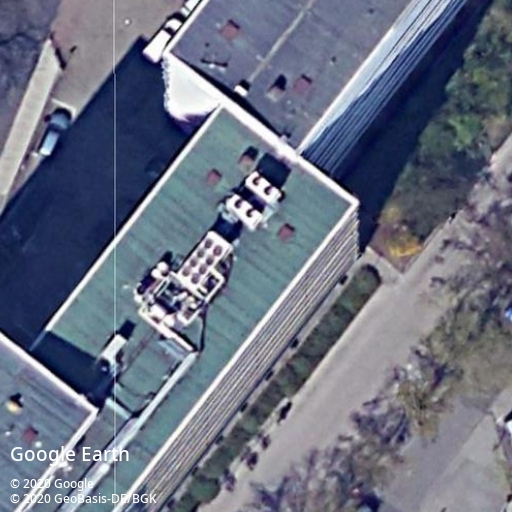Chiller: (177, 230, 232, 291), (226, 194, 263, 231), (245, 170, 283, 205)
